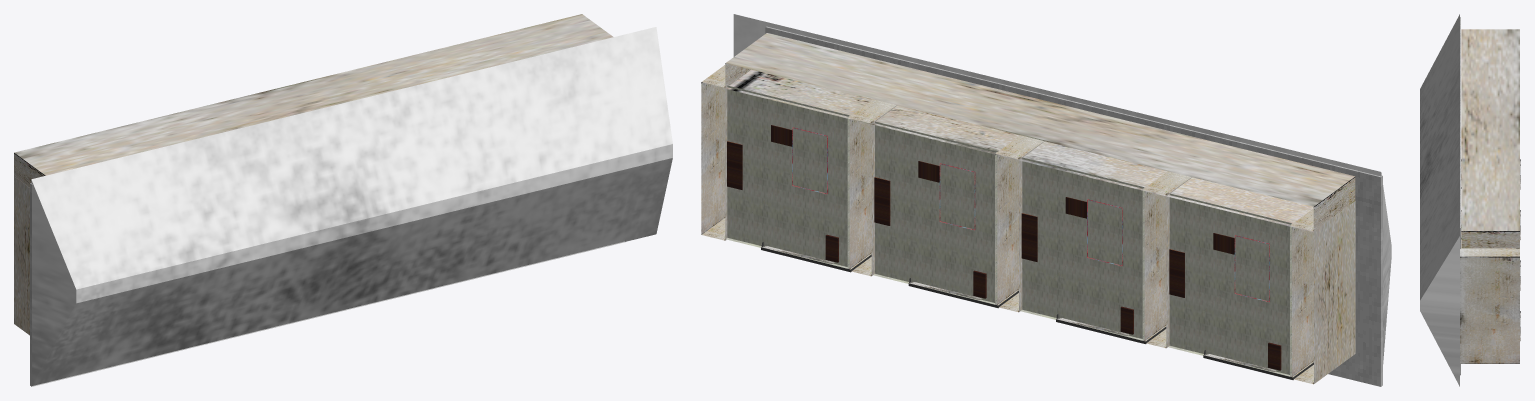
File: 4motelroomsnodoors_wtf.obj
3 renders of one model, left to right at view 1: azimuth 30°, elevation 25°; view 2: azimuth 150°, elevation 25°; view 3: azimuth 270°, elevation 25°, orthographic. The views are drawn at different scales.
Parts seen in each view (by area): view 1: group54, group33, group34, group35; view 2: group33, group22, group53, group32, group12, group35, group34, group54, group13, group3, group23, group2 (+4 smaller); view 3: group33, group54, group2, group35.
Part boxes in pixels (x1,y1,x2,y2): group54: [31, 27, 672, 385]; group33: [14, 14, 613, 187]; group34: [14, 176, 29, 335]; group35: [30, 183, 625, 386]; group33: [725, 33, 1355, 232]; group22: [873, 121, 997, 304]; group53: [1168, 193, 1291, 376]; group32: [1020, 157, 1144, 340]; group12: [726, 85, 849, 268]; group35: [765, 26, 1382, 386]; group34: [1290, 201, 1355, 384]; group54: [733, 14, 1391, 363]; group13: [995, 135, 1044, 312]; group3: [848, 99, 896, 276]; group23: [1143, 171, 1191, 348]; group2: [701, 65, 727, 240]; group33: [1461, 29, 1519, 248]; group54: [1420, 14, 1459, 386]; group2: [1460, 248, 1519, 363]; group35: [1460, 17, 1460, 375].
Bounding box in the file's own units: 660 × 209 × 127.
